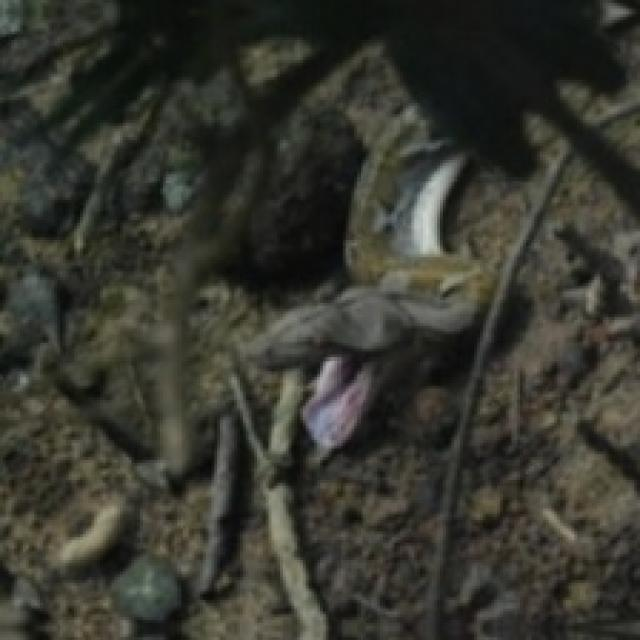reticulated python: (246, 106, 491, 449)
